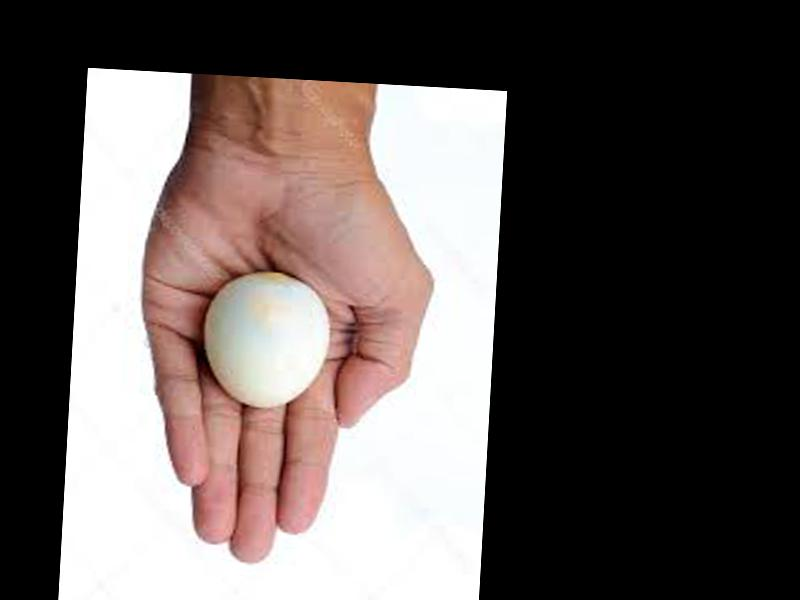Eggs: (202, 269, 330, 413)
